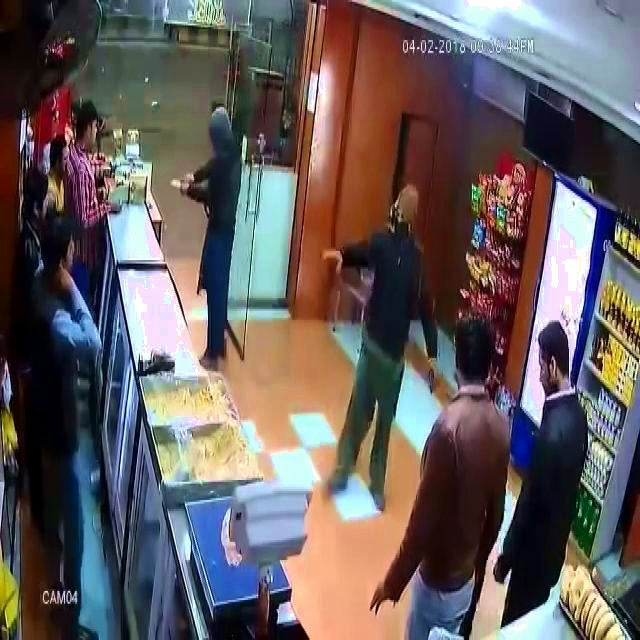gun: (423, 358, 436, 397), (167, 172, 191, 192)
